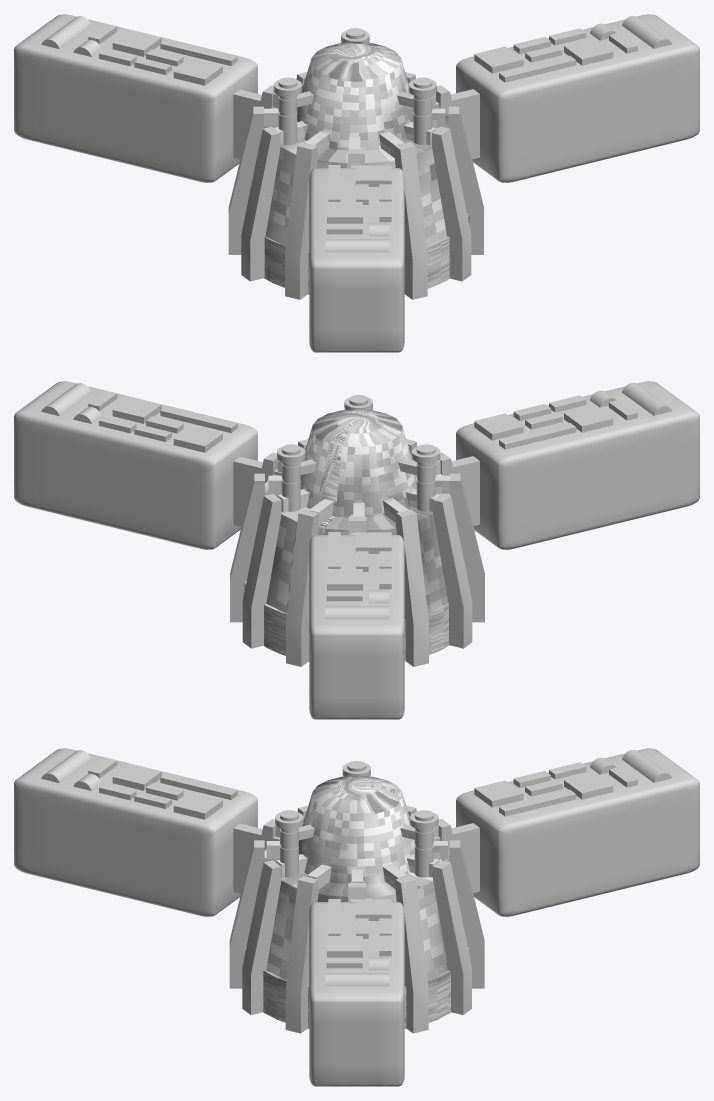
The model's file is Habitat Station.dae.
3 renders of one model, top to bottom at view 1: azimuth 30°, elevation 25°; view 2: azimuth 150°, elevation 25°; view 3: azimuth 270°, elevation 25°, orthographic.
Parts seen in each view (by area): view 1: Polygon_Mesh (×13); view 2: Polygon_Mesh (×13); view 3: Polygon_Mesh (×13).
Part boxes in pixels (left/top/right/bottom): Polygon_Mesh (×13): left=14, top=14, right=699, bottom=352; Polygon_Mesh (×13): left=14, top=381, right=699, bottom=719; Polygon_Mesh (×13): left=14, top=748, right=699, bottom=1086.
Size of the model in its own units: 574 by 212 by 662.
Materials: 2 (2 with a texture image).
